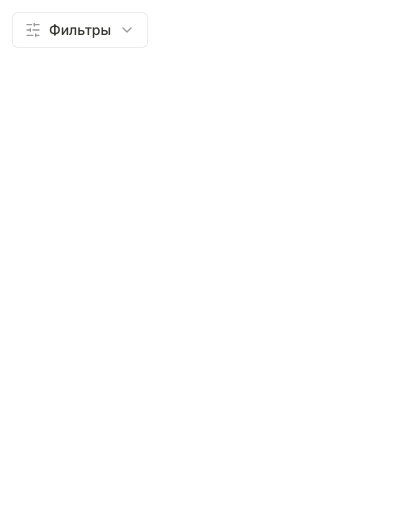
Scenario: MobileFilterToggle › toggles aria-expanded when clicked
Click the button "Фильтры". click: (80, 30)
box: left=12, top=12, right=148, bottom=48
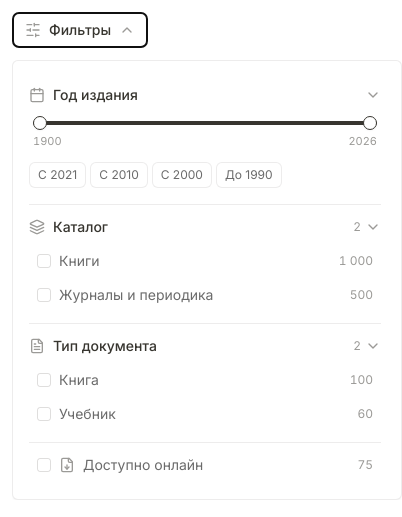
Expected: the button "Фильтры" is expanded
Click the button "Фильтры". click: (80, 30)
box: left=12, top=12, right=148, bottom=48
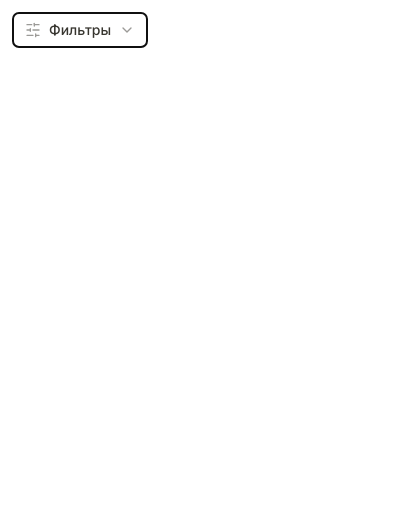
Expected: the button "Фильтры" is collapsed, left=12, top=12, right=148, bottom=48
